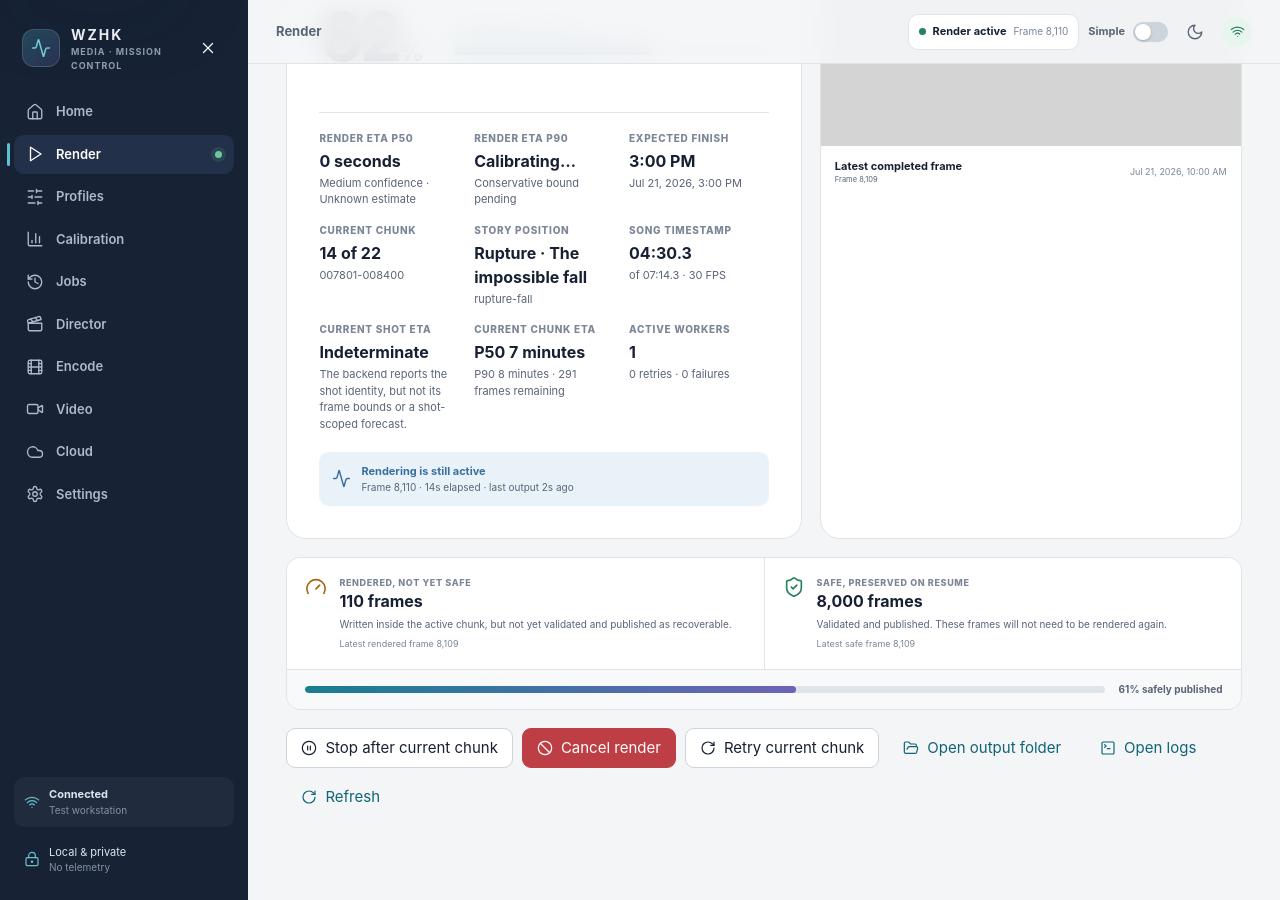
Scenario: MissionControlApp › confirms and submits an identity-safe cancellation from the active render UI
(page scrolled)
Step 1. Click the button "Cancel render" → (599, 748), box x1=522 y1=728 x2=676 y2=768
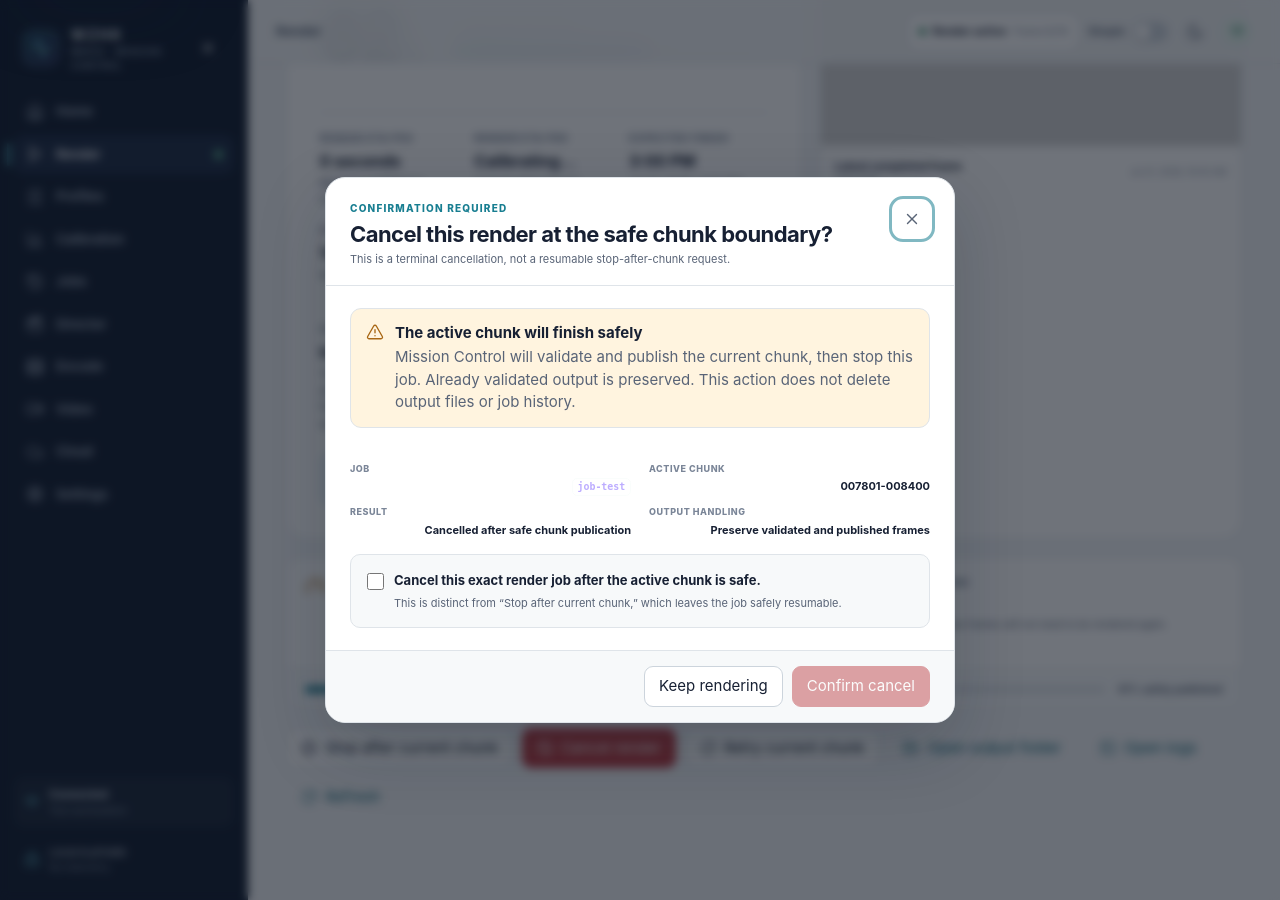
Step 2. Click the checkbox labelled "Cancel this exact render job" → (376, 582), box x1=367 y1=573 x2=384 y2=590
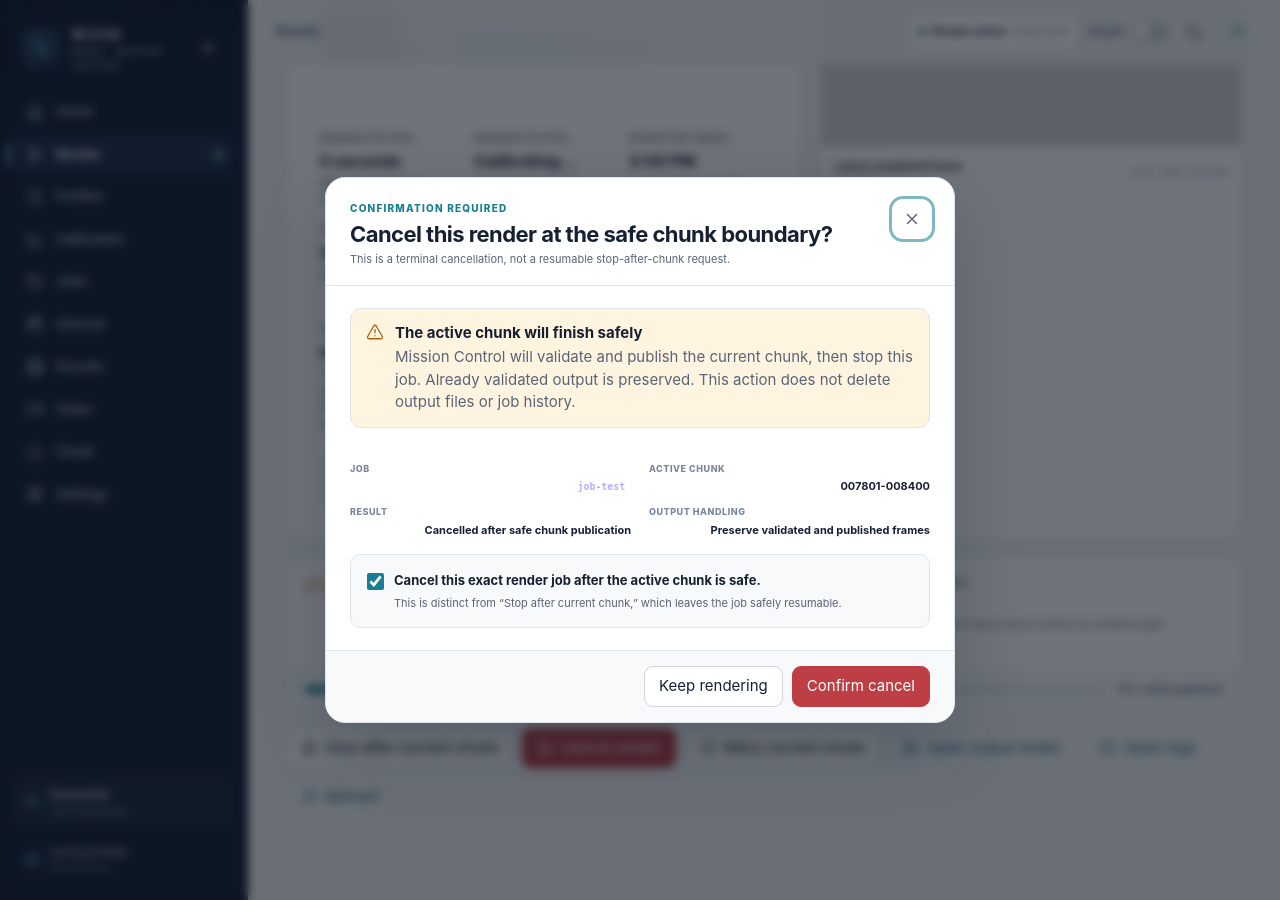
Step 3. Click the button "Confirm cancel" → (861, 687), box x1=792 y1=666 x2=930 y2=707
(page scrolled)
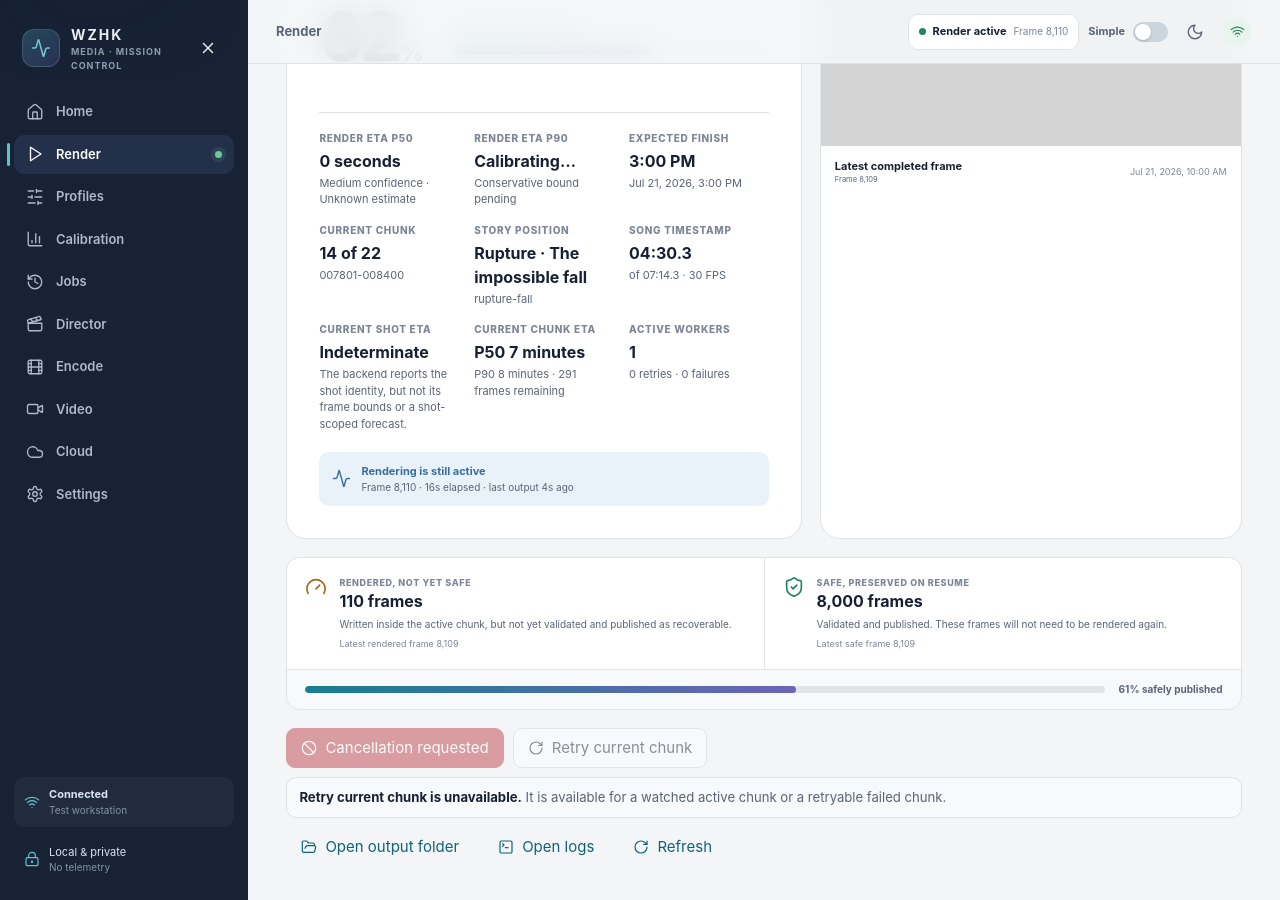
Expected: the button "Cancellation requested" is disabled, x1=286 y1=728 x2=504 y2=768
